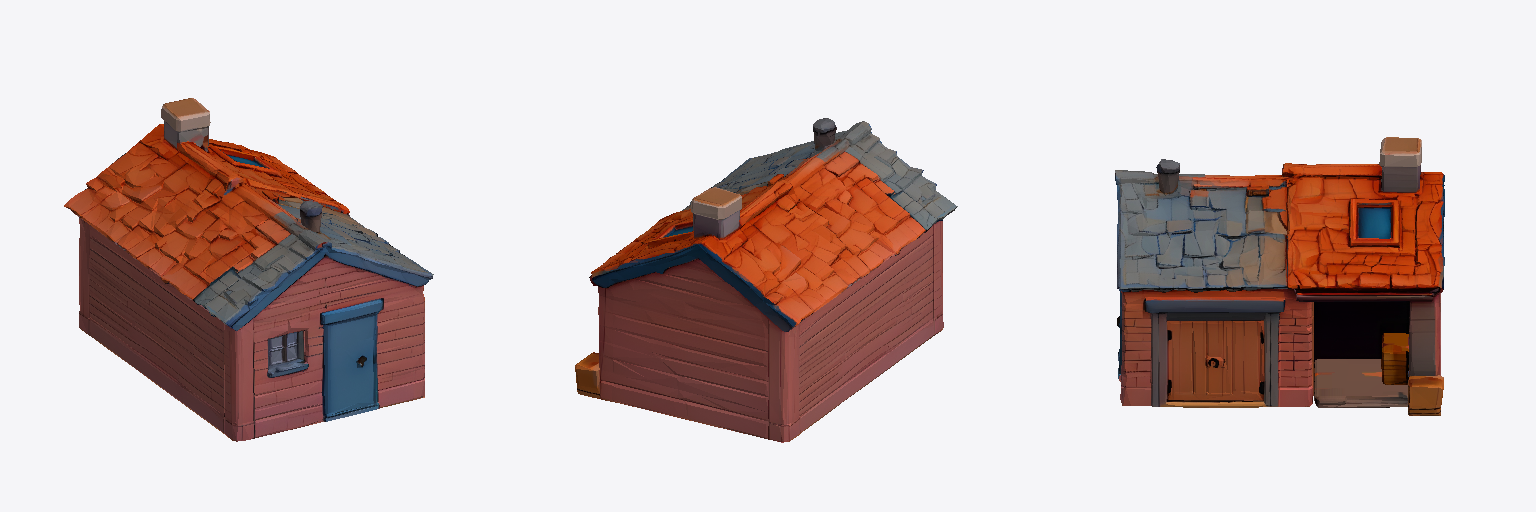
3 views of the same model, side by side, from view 1: azimuth 30°, elevation 25°; view 2: azimuth 150°, elevation 25°; view 3: azimuth 270°, elevation 25° (orthographic).
Visible parts, largest first — view 1: 0_1234_30_5.0_256_8000; view 2: 0_1234_30_5.0_256_8000; view 3: 0_1234_30_5.0_256_8000.
Boxes of the visible parts, x1=… form: 0_1234_30_5.0_256_8000: x1=64, y1=98, x2=433, y2=441; 0_1234_30_5.0_256_8000: x1=575, y1=118, x2=957, y2=442; 0_1234_30_5.0_256_8000: x1=1115, y1=137, x2=1444, y2=415.
Size of the model in its own units: 1.55 by 1.41 by 1.97.
1 materials, 1 textured.